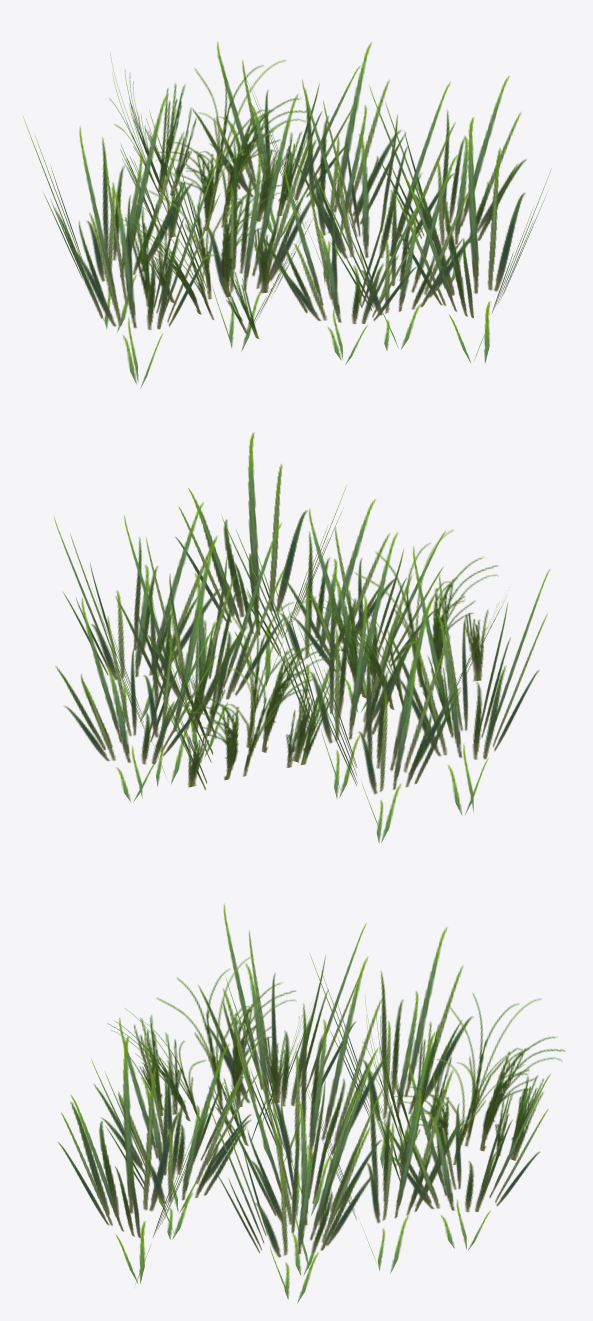
The picture shows the model from 3 angles, top to bottom: view 1: azimuth 30°, elevation 25°; view 2: azimuth 150°, elevation 25°; view 3: azimuth 270°, elevation 25°; orthographic projection. The views are drawn at different scales.
Parts seen in each view (by area): view 1: um_t1_pl001_model_lod0Shape; view 2: um_t1_pl001_model_lod0Shape; view 3: um_t1_pl001_model_lod0Shape.
Part boxes in pixels (left/top/right/bottom): um_t1_pl001_model_lod0Shape: left=23, top=42, right=551, bottom=388; um_t1_pl001_model_lod0Shape: left=54, top=432, right=549, bottom=842; um_t1_pl001_model_lod0Shape: left=58, top=904, right=565, bottom=1303.
Bounding box in the file's own units: 2.63 × 1.16 × 2.48.
1 material, 1 textured.
